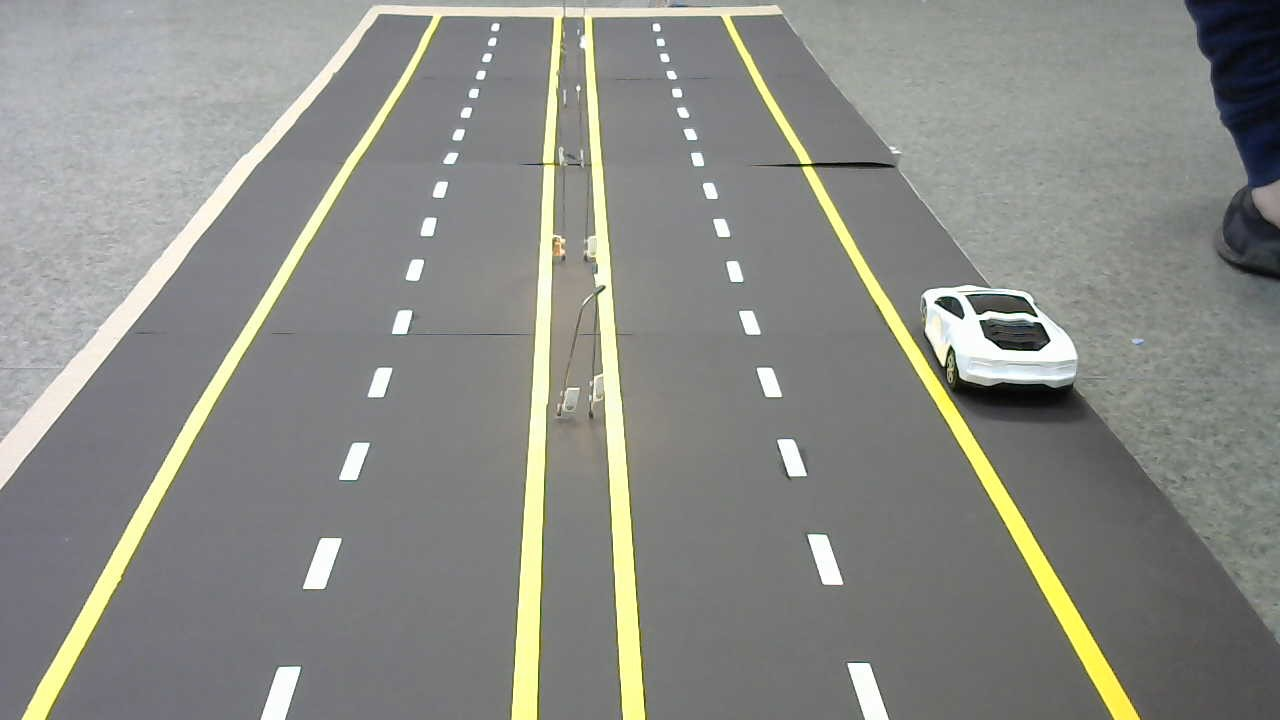back_car: (907, 278, 1085, 395)
